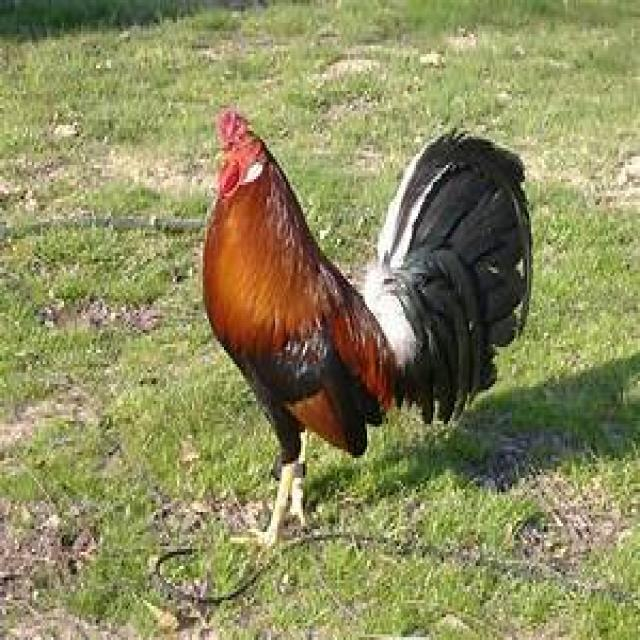hen: (201, 108, 533, 549)
